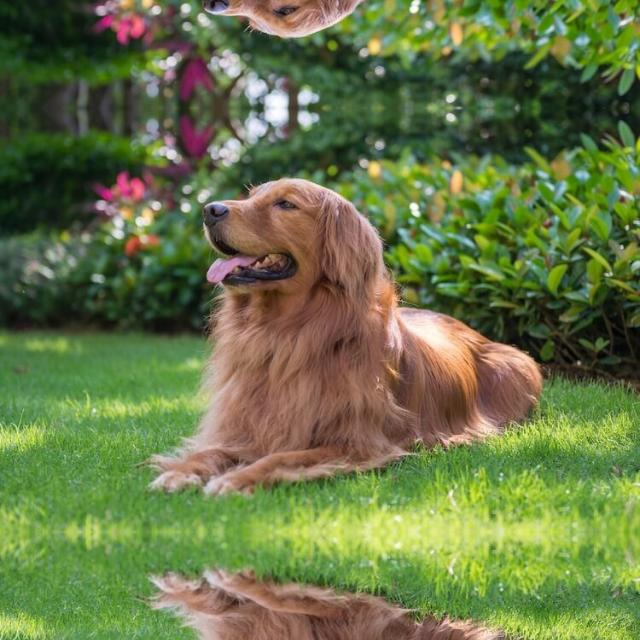dog: (188, 166, 532, 506), (188, 556, 532, 640), (188, 0, 532, 48)
